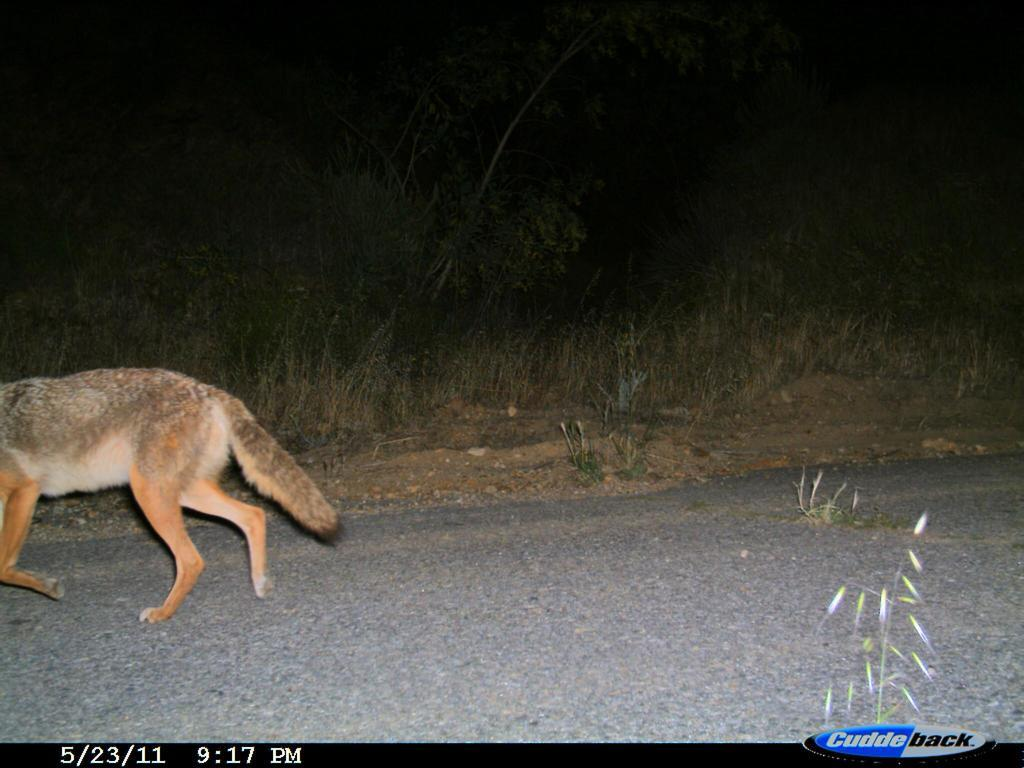coyote: (1, 365, 351, 626)
